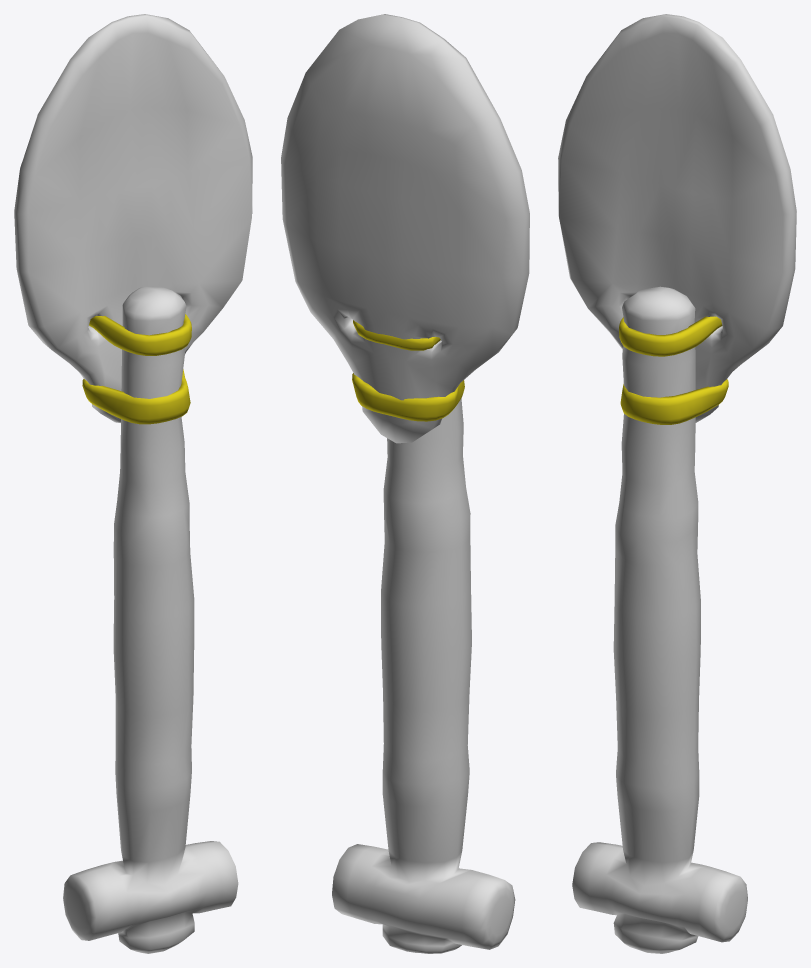
File: StoneShovel.fbx
3 views of the same model, side by side, from view 1: azimuth 30°, elevation 25°; view 2: azimuth 150°, elevation 25°; view 3: azimuth 330°, elevation 25° (orthographic). The views are drawn at different scales.
Visible parts, largest first — view 1: StoneShovel; view 2: StoneShovel; view 3: StoneShovel.
Boxes of the visible parts, x1,y1,x2,y2 form: StoneShovel: (14, 14, 252, 953); StoneShovel: (281, 14, 529, 953); StoneShovel: (558, 14, 796, 953).
Bounding box in the file's own units: 0.1544 × 0.5742 × 0.069.
